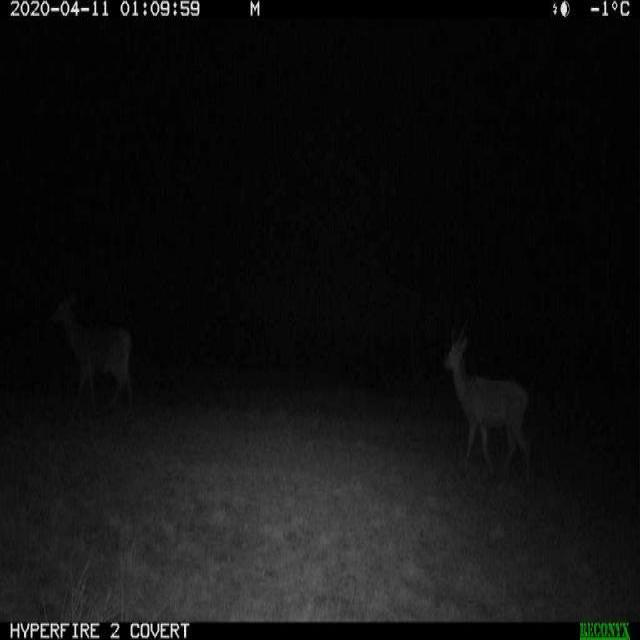deer: (438, 317, 540, 508), (39, 273, 146, 438)
